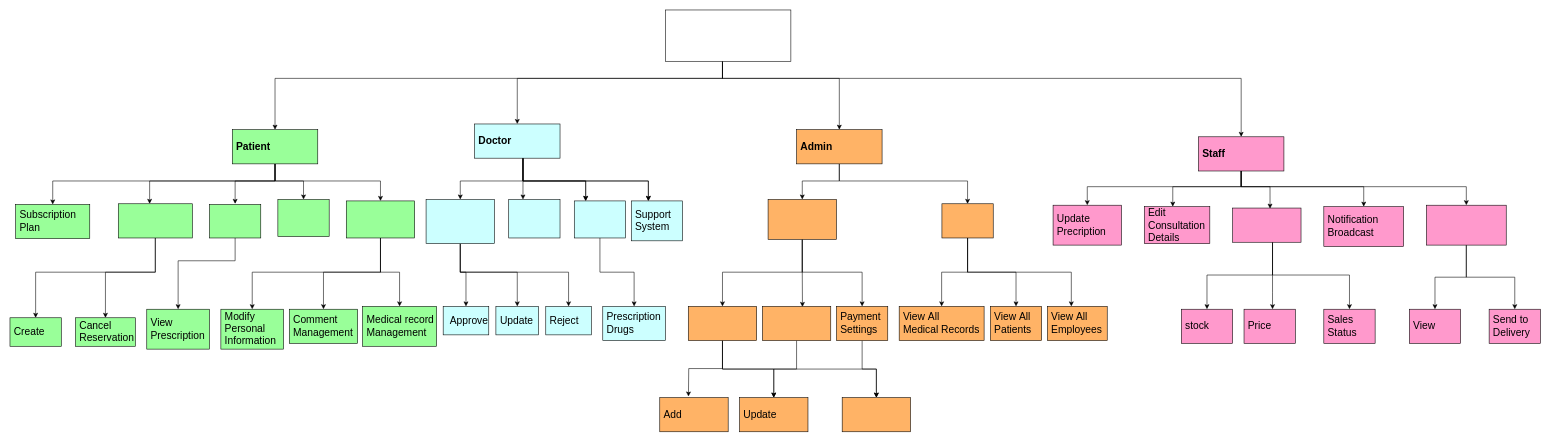
The diagram is 1550 pixels wide and 442 high, and some of its shapes have lost their labels. Here are the shapes that lost their labels. From the top down, the centre of each, then its label:
At (x=728, y=35): "Online Consultation And Medical Subscription".
At (x=155, y=220): "Appointments".
At (x=235, y=221): "Consult".
At (x=303, y=218): "Visit".
At (x=380, y=219): "Personal Center".
At (x=460, y=221): "Appointment List".
At (x=534, y=218): "Patients List".
At (x=600, y=219): "Reply Visit".
At (x=802, y=219): "Hospital Management".
At (x=967, y=220): "View All Records".
At (x=1266, y=224): "Drug Management".
At (x=1466, y=225): "Prescription".
At (x=722, y=323): "Manage Subscriptions".
At (x=796, y=323): "Account Management".
At (x=876, y=414): "Delete".
